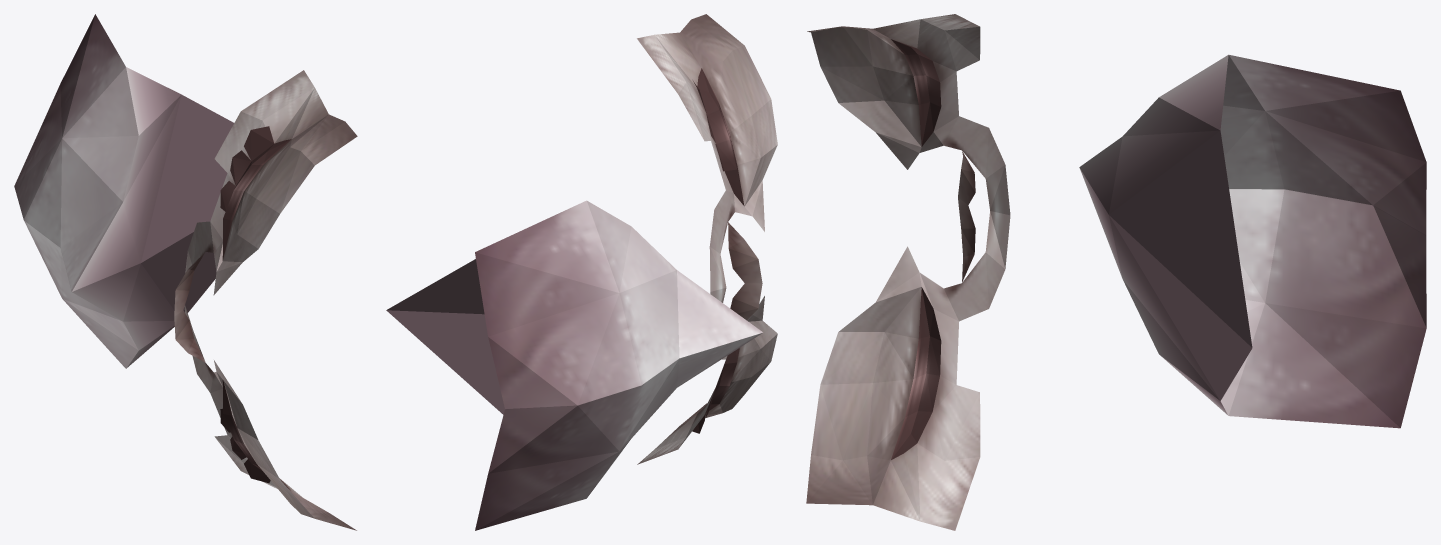
The picture shows the model from 3 angles, left to right: view 1: azimuth 30°, elevation 25°; view 2: azimuth 150°, elevation 25°; view 3: azimuth 270°, elevation 25°; orthographic projection. The views are drawn at different scales.
Visible parts, largest first — view 1: B_0010_1a_0; view 2: B_0010_1a_0; view 3: B_0010_1a_0.
Part boxes in pixels (x1,y1,x2,y2): B_0010_1a_0: (14,14,357,530); B_0010_1a_0: (386,14,777,530); B_0010_1a_0: (806,14,1426,530).
Bounding box in the file's own units: 2 × 2.67 × 2.9.
Materials: 1 (1 with a texture image).
